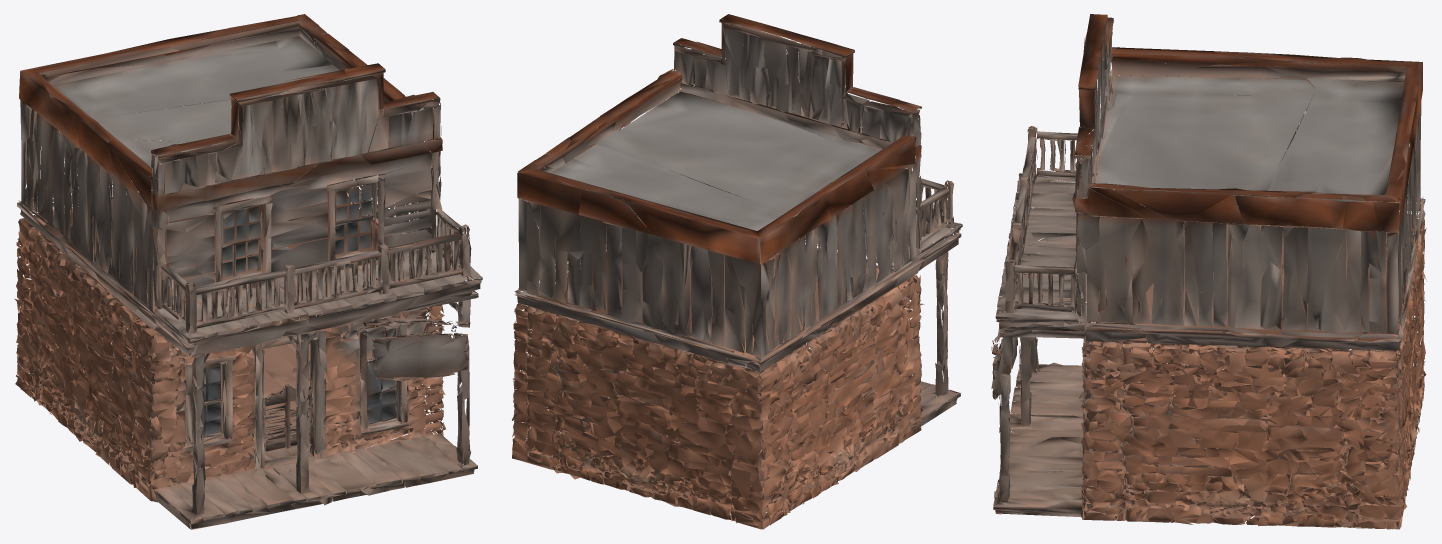
The model's file is saloon.glb.
The picture shows the model from 3 angles, left to right: view 1: azimuth 30°, elevation 25°; view 2: azimuth 150°, elevation 25°; view 3: azimuth 270°, elevation 25°; orthographic projection. The views are drawn at different scales.
Visible parts, largest first — view 1: LO.001; view 2: LO.001; view 3: LO.001.
Boxes of the visible parts, x1,y1,x2,y2 form: LO.001: (14, 14, 482, 529); LO.001: (512, 14, 962, 529); LO.001: (991, 14, 1426, 529).
Size of the model in its own units: 1.58 by 1.92 by 1.87.
Materials: 1 (1 with a texture image).
